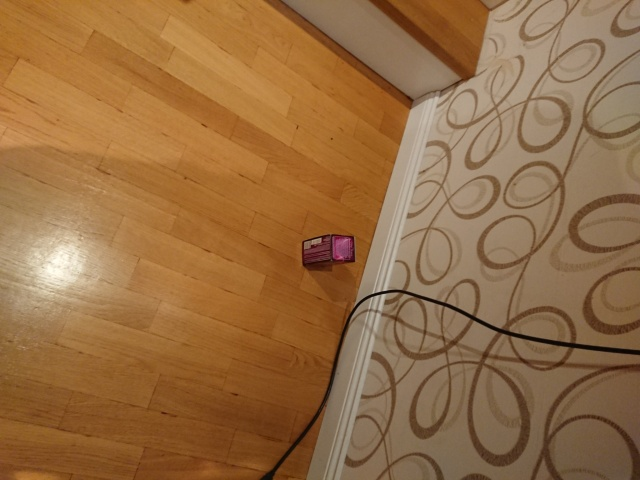Franck Black Currant Tea 60g: (300, 231, 358, 269)
